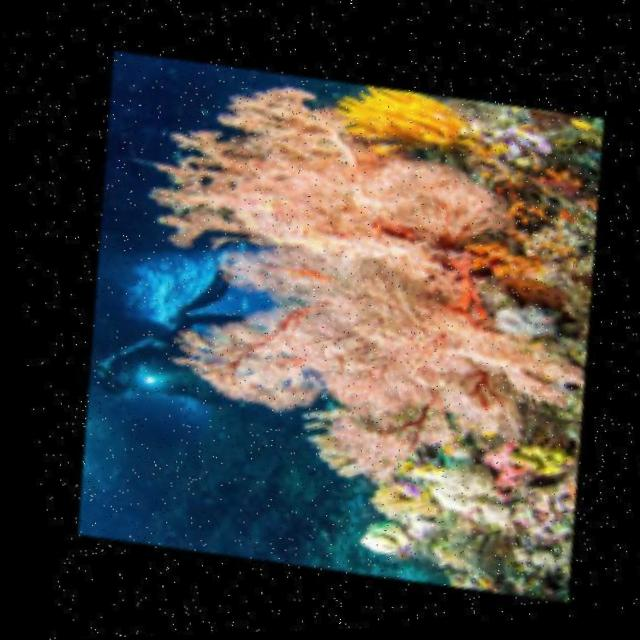Healthy Coral: (152, 80, 578, 462)
